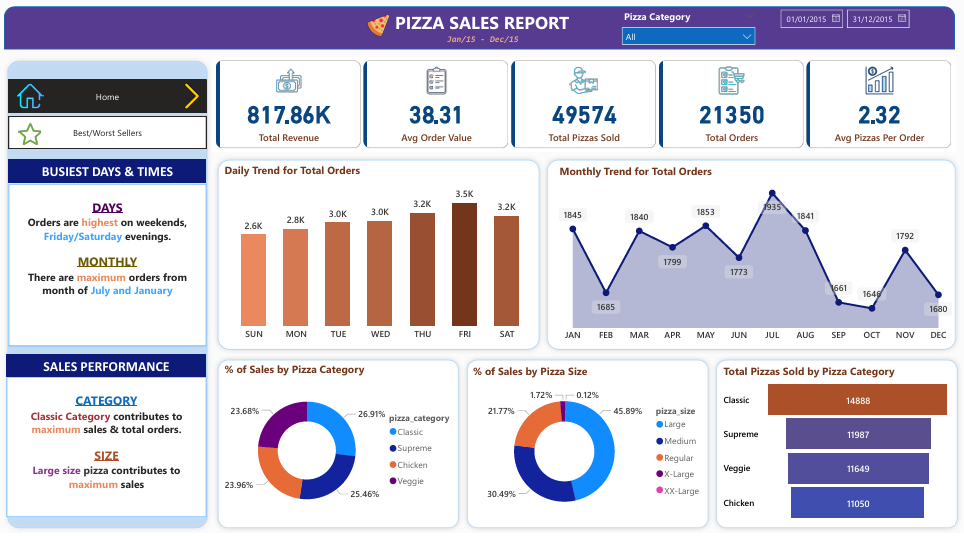

What the dashboard file says about the page in this screenshot:
{"tool":"powerbi","page":{"name":"Home","canvas":[1500,820],"ordinal":0},"visuals":[{"type":"shape","box":[1103.3,545,386.7,275],"z":0},{"type":"shape","box":[720,545,386.7,275],"z":1000},{"type":"shape","box":[13.3,85,323.3,735],"z":2000},{"type":"cardVisual","fields":{"Data":["pizza_sales.Total Revenue","pizza_sales.Avg Order Value","pizza_sales.Total Pizzas Sold","pizza_sales.Total Orders","pizza_sales.Avg Pizzas Per Order"]},"box":[336.7,86.7,1141.7,145],"z":3000},{"type":"shape","box":[16.4,9.1,1461.8,65.5],"z":4000},{"type":"textbox","box":[591.1,8.9,319.6,48.2],"z":5000},{"type":"textbox","box":[681.7,45,140,30],"z":6000},{"type":"image","box":[560.7,16.1,60.7,44.6],"z":7000},{"type":"shape","box":[336.7,236.7,510,308.3],"z":8000},{"type":"columnChart","title":"Daily Trend for Total Orders","fields":{"Category":["pizza_sales.Order Day"],"Y":["pizza_sales.Total Orders"]},"box":[350,250,490,281.7],"z":9000},{"type":"shape","box":[843.3,236.7,643.3,308.3],"z":10000},{"type":"areaChart","title":"Monthly Trend for Total Orders ","fields":{"Category":["pizza_sales.Order Month"],"Y":["pizza_sales.Total Orders"]},"box":[865,251.7,613.3,281.7],"z":11000},{"type":"shape","box":[336.7,545,386.7,275],"z":12000},{"type":"donutChart","title":"% of Sales by Pizza Category","fields":{"Category":["pizza_sales.pizza_category"],"Y":["pizza_sales.Total Revenue"]},"box":[350,556.7,371.7,250],"z":13000},{"type":"donutChart","title":"% of Sales by Pizza Size","fields":{"Y":["pizza_sales.Total Revenue"],"Category":["pizza_sales.pizza_size"]},"box":[731.7,560,371.7,246.7],"z":14000},{"type":"funnel","title":"Total Pizzas Sold by Pizza Category","fields":{"Category":["pizza_sales.pizza_category"],"Y":["pizza_sales.Total Pizzas Sold"]},"box":[1116.7,560,360,246.7],"z":15000},{"type":"textbox","box":[23.3,245,303.3,36.7],"z":16000},{"type":"textbox","box":[23.3,281.7,303.3,250],"z":17000},{"type":"textbox","box":[20,545,306.7,36.7],"z":18000},{"type":"textbox","box":[20,580,306.7,215],"z":19000},{"type":"slicer","fields":{"Values":["pizza_sales.pizza_category"]},"box":[955.7,8.6,225.7,65.7],"z":20000},{"type":"slicer","fields":{"Values":["pizza_sales.order_date"]},"box":[1197.1,3.7,225.8,71.6],"z":21000},{"type":"pageNavigator","box":[23.3,121.7,303.3,50],"z":22000},{"type":"pageNavigator","box":[23.3,178.3,303.3,50],"z":23000},{"type":"image","box":[280,121.7,50,50],"z":24000},{"type":"image","box":[25,121.7,61.7,50],"z":25000},{"type":"image","box":[25,183.3,61.7,45],"z":26000}]}

Visuals, with their boxes in screenshot pixels (x1, y1, x2, y2), scaled from the page's 1500x820 canvas onto the 964x536 screenshot:
shape: 709,356,958,535
shape: 463,356,711,535
shape: 9,56,216,535
cardVisual - pizza_sales.Total Revenue x pizza_sales.Avg Order Value: 216,57,950,151
shape: 11,6,950,49
textbox: 380,6,585,37
textbox: 438,29,528,49
image: 360,11,399,40
shape: 216,155,544,356
"Daily Trend for Total Orders" columnChart: 225,163,540,348
shape: 542,155,955,356
"Monthly Trend for Total Orders " areaChart: 556,165,950,349
shape: 216,356,465,535
"% of Sales by Pizza Category" donutChart: 225,364,464,527
"% of Sales by Pizza Size" donutChart: 470,366,709,527
"Total Pizzas Sold by Pizza Category" funnel: 718,366,949,527
textbox: 15,160,210,184
textbox: 15,184,210,348
textbox: 13,356,210,380
textbox: 13,379,210,520
slicer - pizza_sales.pizza_category: 614,6,759,49
slicer - pizza_sales.order_date: 769,2,914,49
pageNavigator: 15,80,210,112
pageNavigator: 15,117,210,149
image: 180,80,212,112
image: 16,80,56,112
image: 16,120,56,149
